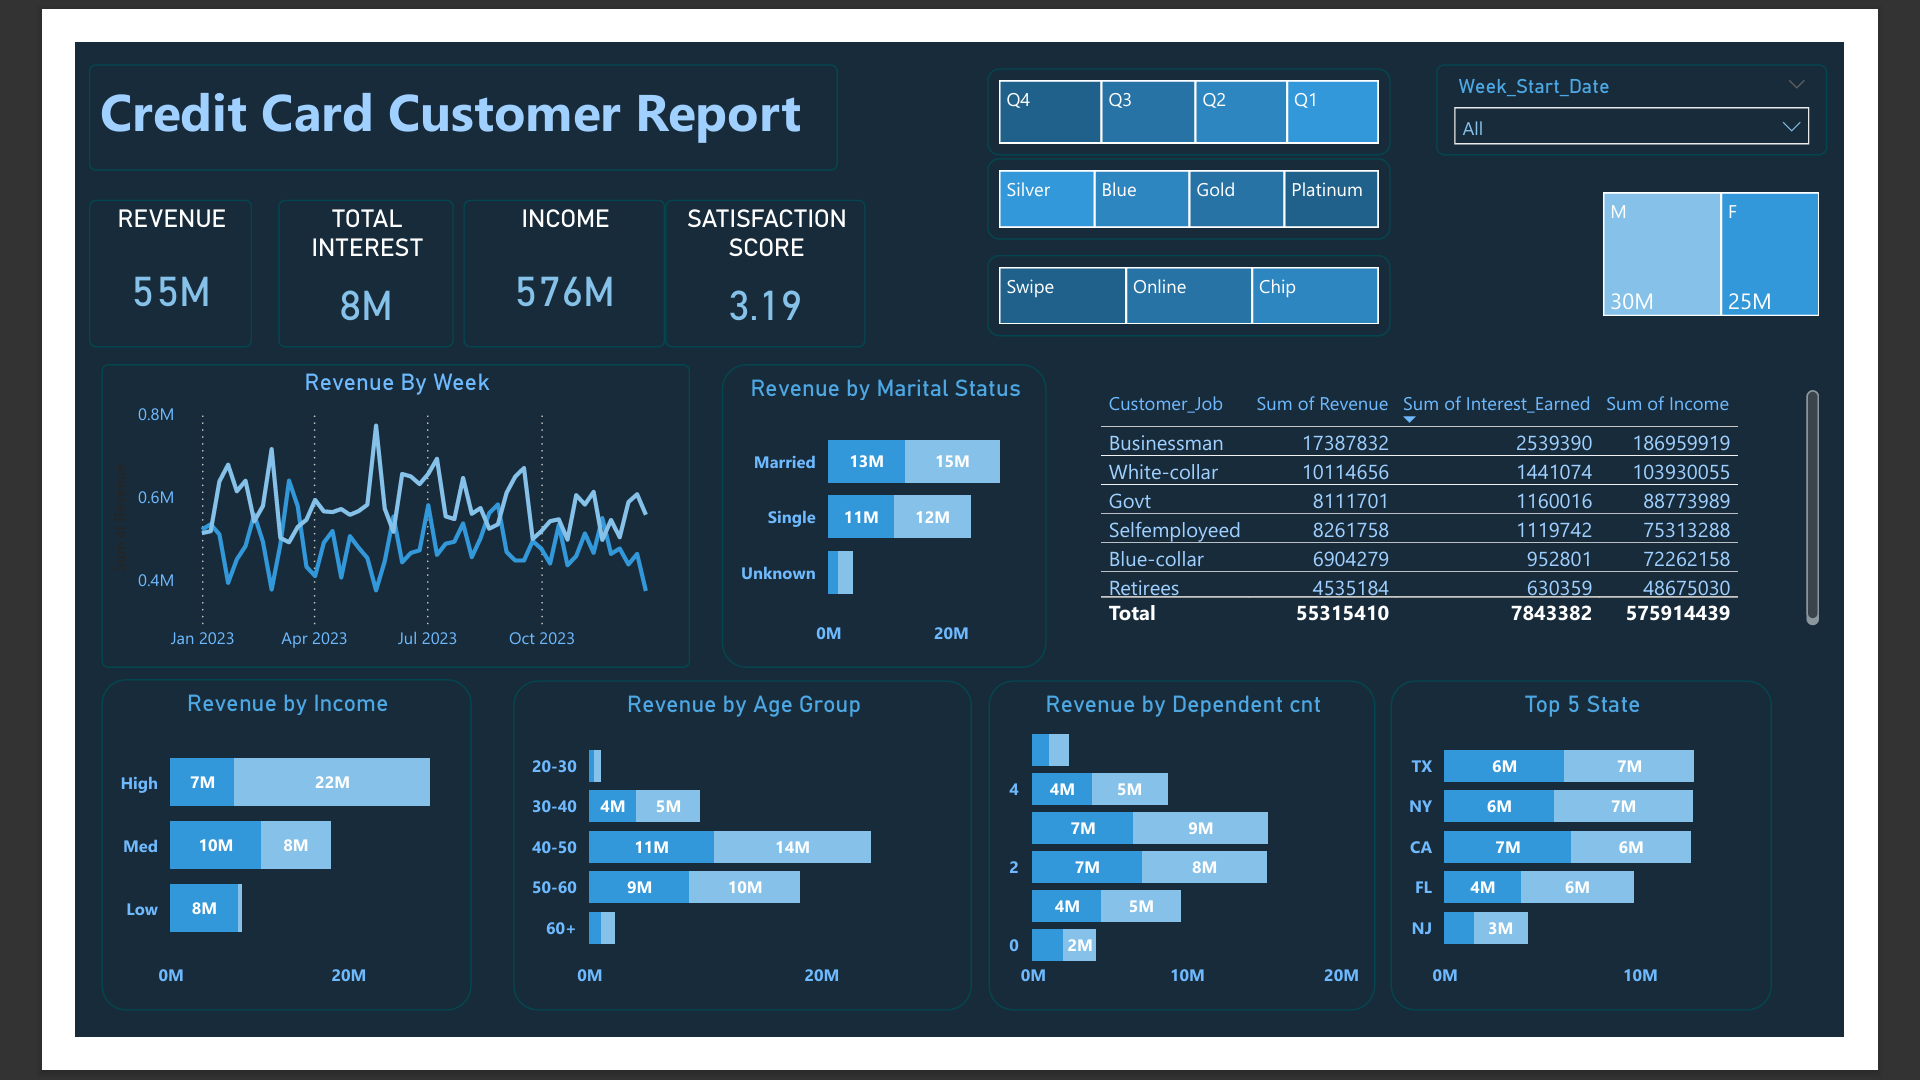

The dashboard page shown, as its layout file describes it:
{"tool":"powerbi","page":{"name":"CC Customer","canvas":[1280,720],"ordinal":2},"visuals":[{"type":"textbox","box":[9.6,16.5,542,76.8],"z":0},{"type":"barChart","title":"Revenue by Income","fields":{"Y":["Sum(credit_card.Revenue)"],"Category":["customer.Income Group"],"Series":["customer.Gender"]},"box":[19.2,461.1,267.6,240.1],"z":1000},{"type":"tableEx","fields":{"Values":["customer.Customer_Job","Sum(credit_card.Revenue)","Sum(credit_card.Interest_Earned)","Sum(customer.Income)"]},"box":[736.9,247,529.7,179.8],"z":2000},{"type":"card","title":"REVENUE","fields":{"Values":["Sum(credit_card.Revenue)"]},"box":[9.6,113.9,118,107],"z":3000},{"type":"card","title":"INCOME","fields":{"Values":["Sum(customer.Income)"]},"box":[287.1,113.4,139.9,107.4],"z":4000},{"type":"card","title":"TOTAL INTEREST","fields":{"Values":["Sum(credit_card.Interest_Earned)"]},"box":[147.2,113.4,126.7,107.4],"z":5000},{"type":"card","title":"SATISFACTION SCORE","fields":{"Values":["Avg(customer.Cust_Satisfaction_Score)"]},"box":[445.2,113.4,139.9,107.4],"z":6000},{"type":"slicer","fields":{"Values":["credit_card.Week_Start_Date"]},"box":[985.3,16.5,282.7,65.9],"z":7000},{"type":"treemap","fields":{"Group":["credit_card.Qtr"],"Values":["Avg(customer.Client_Num)"]},"box":[660,19.2,292.3,63.1],"z":8000},{"type":"treemap","fields":{"Group":["credit_card.Card_Category"],"Values":["Avg(credit_card.Client_Num)"]},"box":[660,83.7,292.3,59],"z":9000},{"type":"lineChart","title":"Revenue By Week","fields":{"Y":["Sum(credit_card.Revenue)"],"Series":["customer.Gender"],"Category":["credit_card.Week_Start_Date.Variation.Date Hierarchy.Year","credit_card.Week_Start_Date.Variation.Date Hierarchy.Month","credit_card.Week_Start_Date.Variation.Date Hierarchy.Day"]},"box":[19.2,233.3,425.4,219.6],"z":10000},{"type":"treemap","fields":{"Group":["customer.Gender"],"Values":["Sum(credit_card.Revenue)"]},"box":[1100.5,104.3,166,98.8],"z":11000},{"type":"barChart","title":"Revenue by Age Group","fields":{"Y":["Sum(credit_card.Revenue)"],"Category":["customer.Age Group"],"Series":["customer.Gender"]},"box":[316.7,461.1,332.2,238.9],"z":12000},{"type":"barChart","title":"Top 5 State","fields":{"Y":["Sum(credit_card.Revenue)"],"Category":["customer.state_cd"],"Series":["customer.Gender"]},"box":[972.4,460.9,276.3,238.9],"z":13000},{"type":"barChart","title":"Revenue by Dependent cnt","fields":{"Y":["Sum(credit_card.Revenue)"],"Category":["customer.Dependent_Count"],"Series":["customer.Gender"]},"box":[672,460.9,279.9,238.9],"z":14000},{"type":"barChart","title":"Revenue by Marital Status","fields":{"Y":["Sum(credit_card.Revenue)"],"Category":["customer.Marital_Status"],"Series":["customer.Gender"]},"box":[467.9,233.3,234.6,219.6],"z":15000},{"type":"treemap","fields":{"Group":["credit_card.Use Chip"],"Values":["Avg(credit_card.Client_Num)"]},"box":[660,153.7,292.3,59],"z":16000}]}

Visuals, with their boxes in screenshot pixels (x1, y1, x2, y2), scaled from the page's 1280x720 canvas onto the 1920x1080 screenshot:
textbox: l=14, t=25, r=827, b=140
"Revenue by Income" barChart: l=29, t=692, r=430, b=1052
tableEx - customer.Customer_Job x Sum(credit_card.Revenue): l=1105, t=370, r=1900, b=640
"REVENUE" card: l=14, t=171, r=191, b=331
"INCOME" card: l=431, t=170, r=640, b=331
"TOTAL INTEREST" card: l=221, t=170, r=411, b=331
"SATISFACTION SCORE" card: l=668, t=170, r=878, b=331
slicer - credit_card.Week_Start_Date: l=1478, t=25, r=1902, b=124
treemap - credit_card.Qtr x Avg(customer.Client_Num): l=990, t=29, r=1428, b=123
treemap - credit_card.Card_Category x Avg(credit_card.Client_Num): l=990, t=126, r=1428, b=214
"Revenue By Week" lineChart: l=29, t=350, r=667, b=679
treemap - customer.Gender x Sum(credit_card.Revenue): l=1651, t=156, r=1900, b=305
"Revenue by Age Group" barChart: l=475, t=692, r=973, b=1050
"Top 5 State" barChart: l=1459, t=691, r=1873, b=1050
"Revenue by Dependent cnt" barChart: l=1008, t=691, r=1428, b=1050
"Revenue by Marital Status" barChart: l=702, t=350, r=1054, b=679
treemap - credit_card.Use Chip x Avg(credit_card.Client_Num): l=990, t=231, r=1428, b=319
